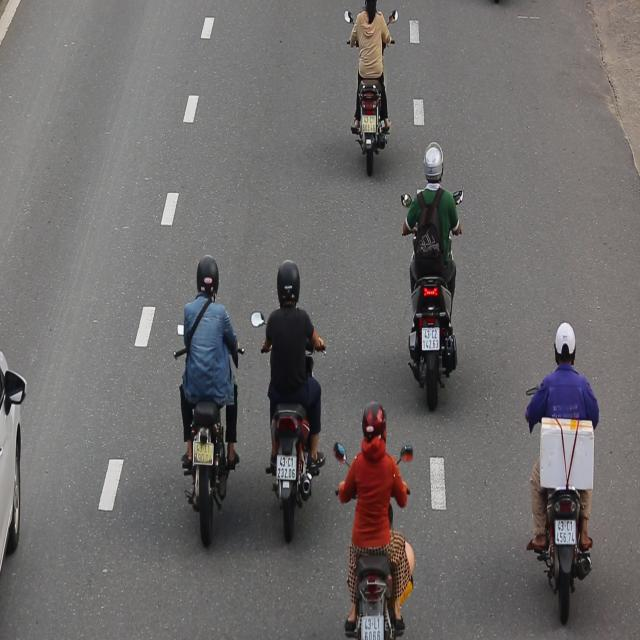motorbike: (518, 305, 602, 629), (250, 230, 328, 551), (170, 247, 251, 554), (397, 136, 463, 417)
